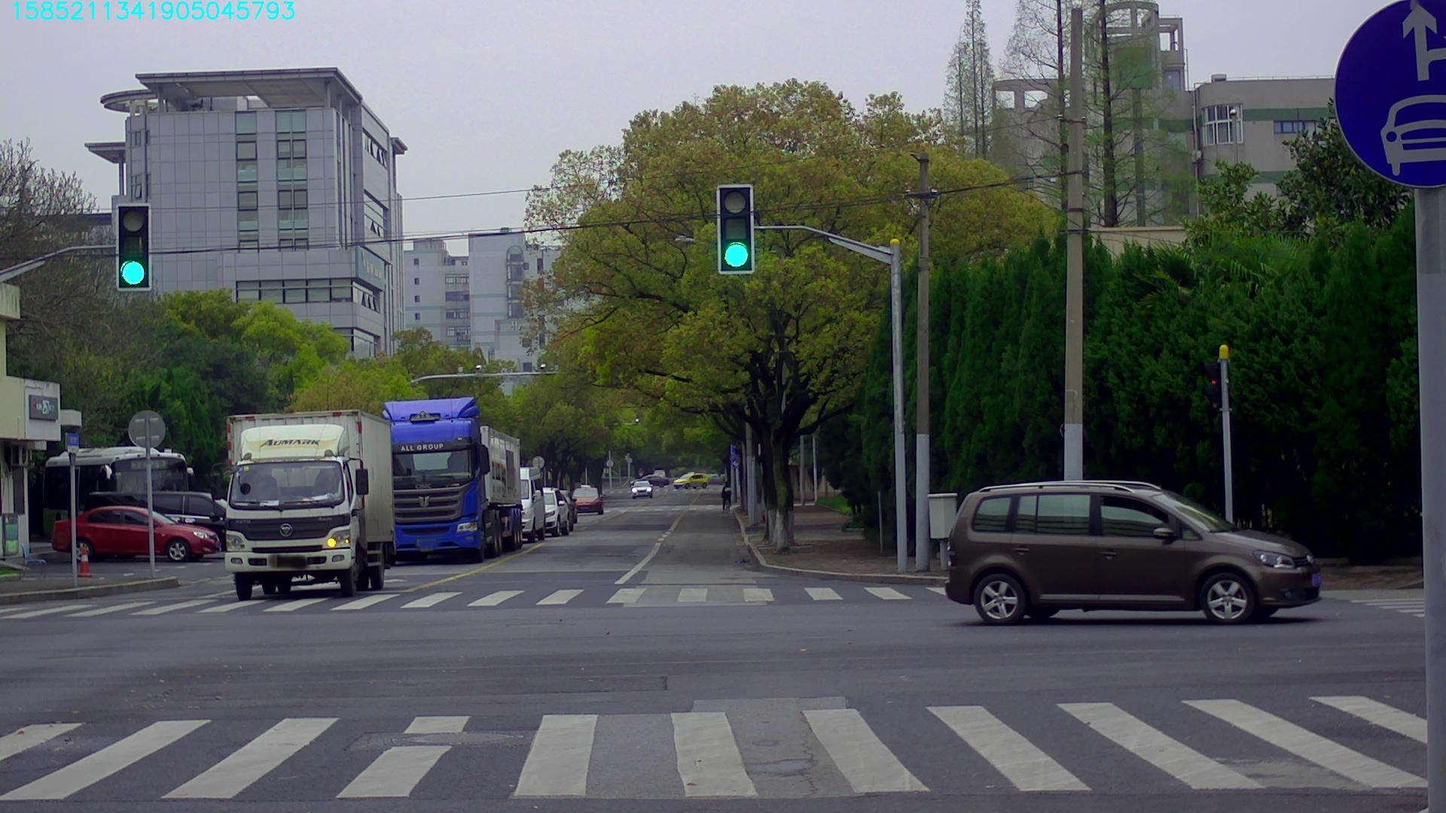green: (718, 184, 752, 272), (117, 203, 149, 291)
